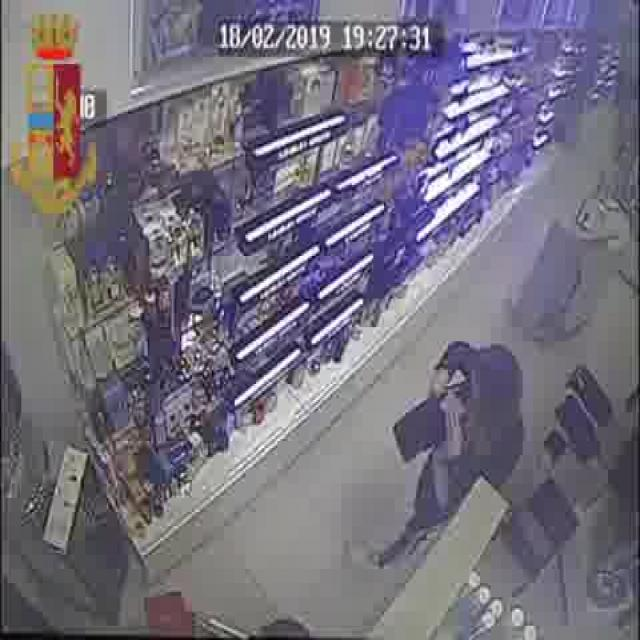persone: (402, 340, 526, 553)
